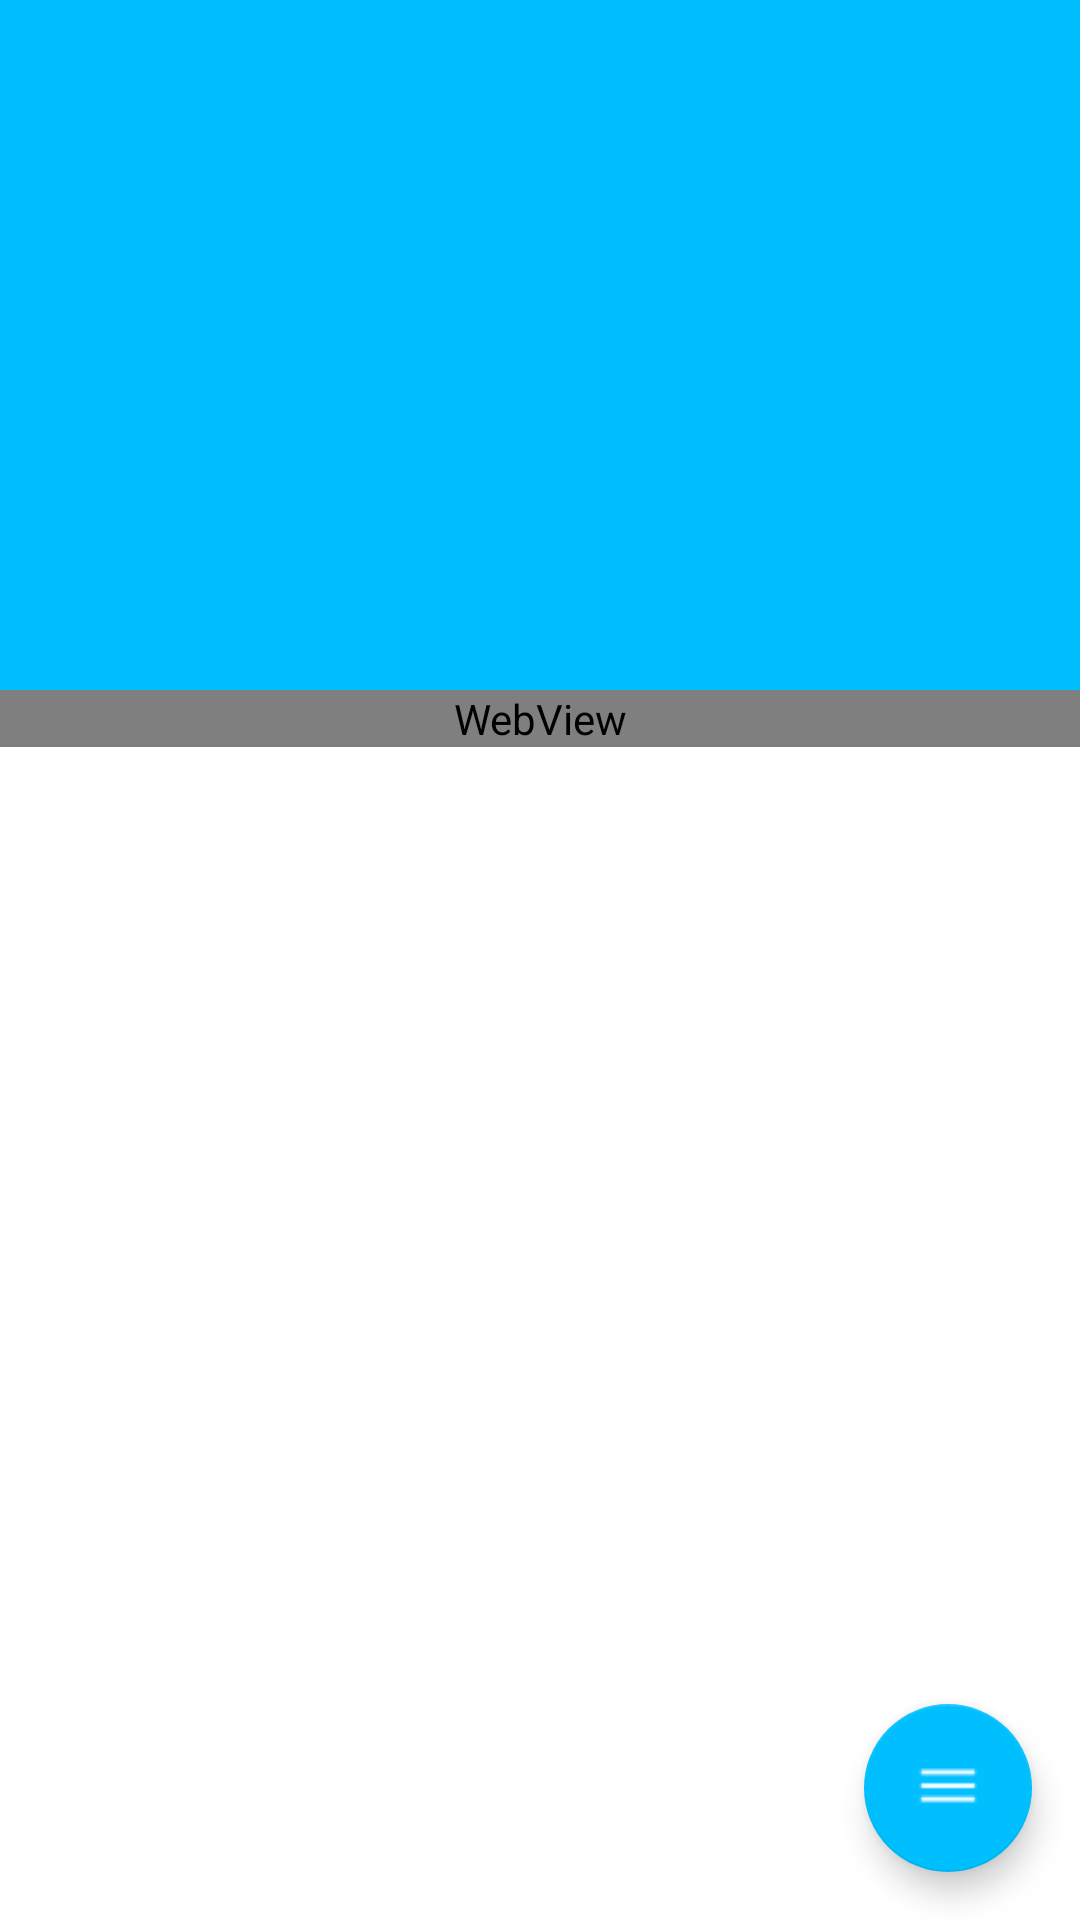

Where to tap for icons on this 1080w x 1920h app screen, as (x,y):
menu: (948,1788)
